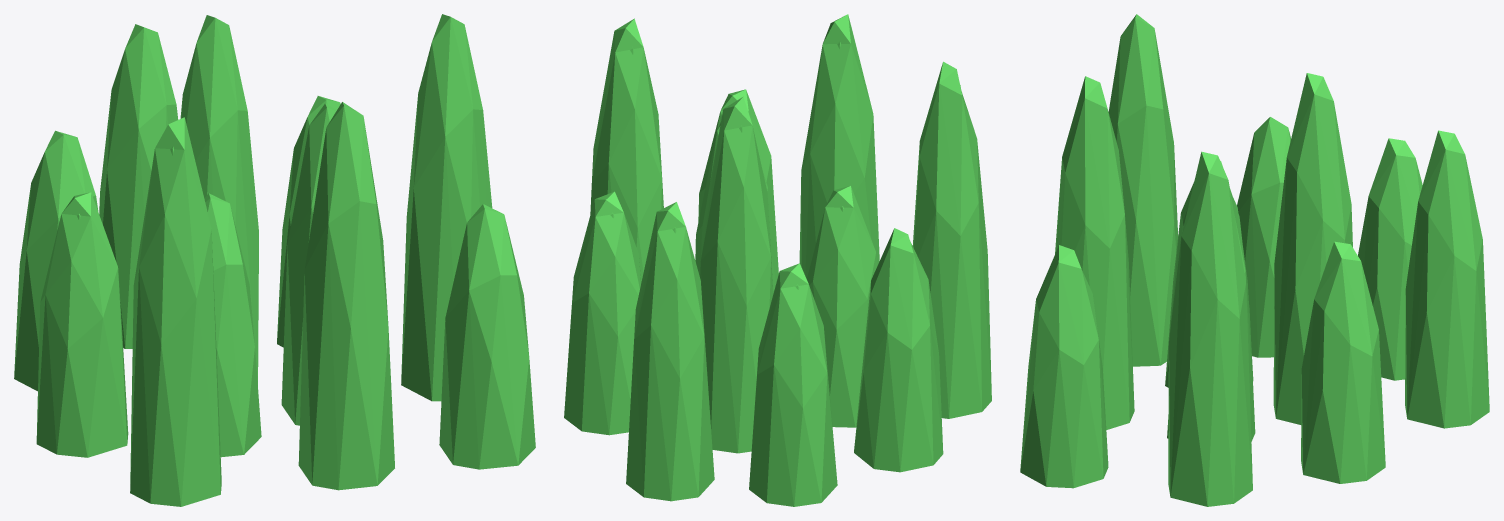
The model's file is grass1.gltf.
The picture shows the model from 3 angles, left to right: view 1: azimuth 30°, elevation 25°; view 2: azimuth 150°, elevation 25°; view 3: azimuth 270°, elevation 25°; orthographic projection. The views are drawn at different scales.
Parts seen in each view (by area): view 1: Sphere.062_leaves_0; view 2: Sphere.062_leaves_0; view 3: Sphere.062_leaves_0.
Boxes of the visible parts, left/top/right/bottom form: Sphere.062_leaves_0: left=14, top=14, right=535, bottom=506; Sphere.062_leaves_0: left=564, top=14, right=991, bottom=506; Sphere.062_leaves_0: left=1020, top=14, right=1489, bottom=506.
Size of the model in its own units: 0.1508 by 0.1279 by 0.1618.
